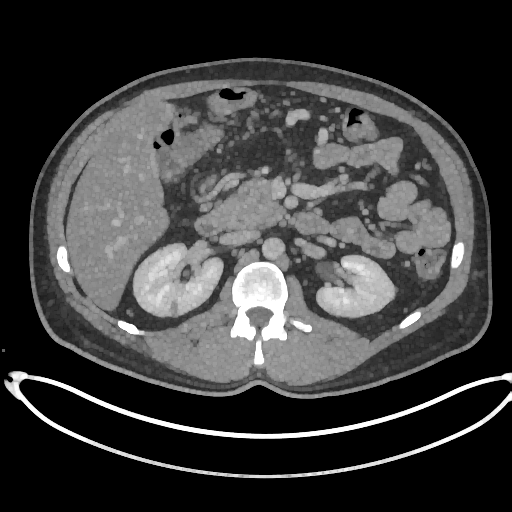Lesion: (166, 300, 182, 318)
